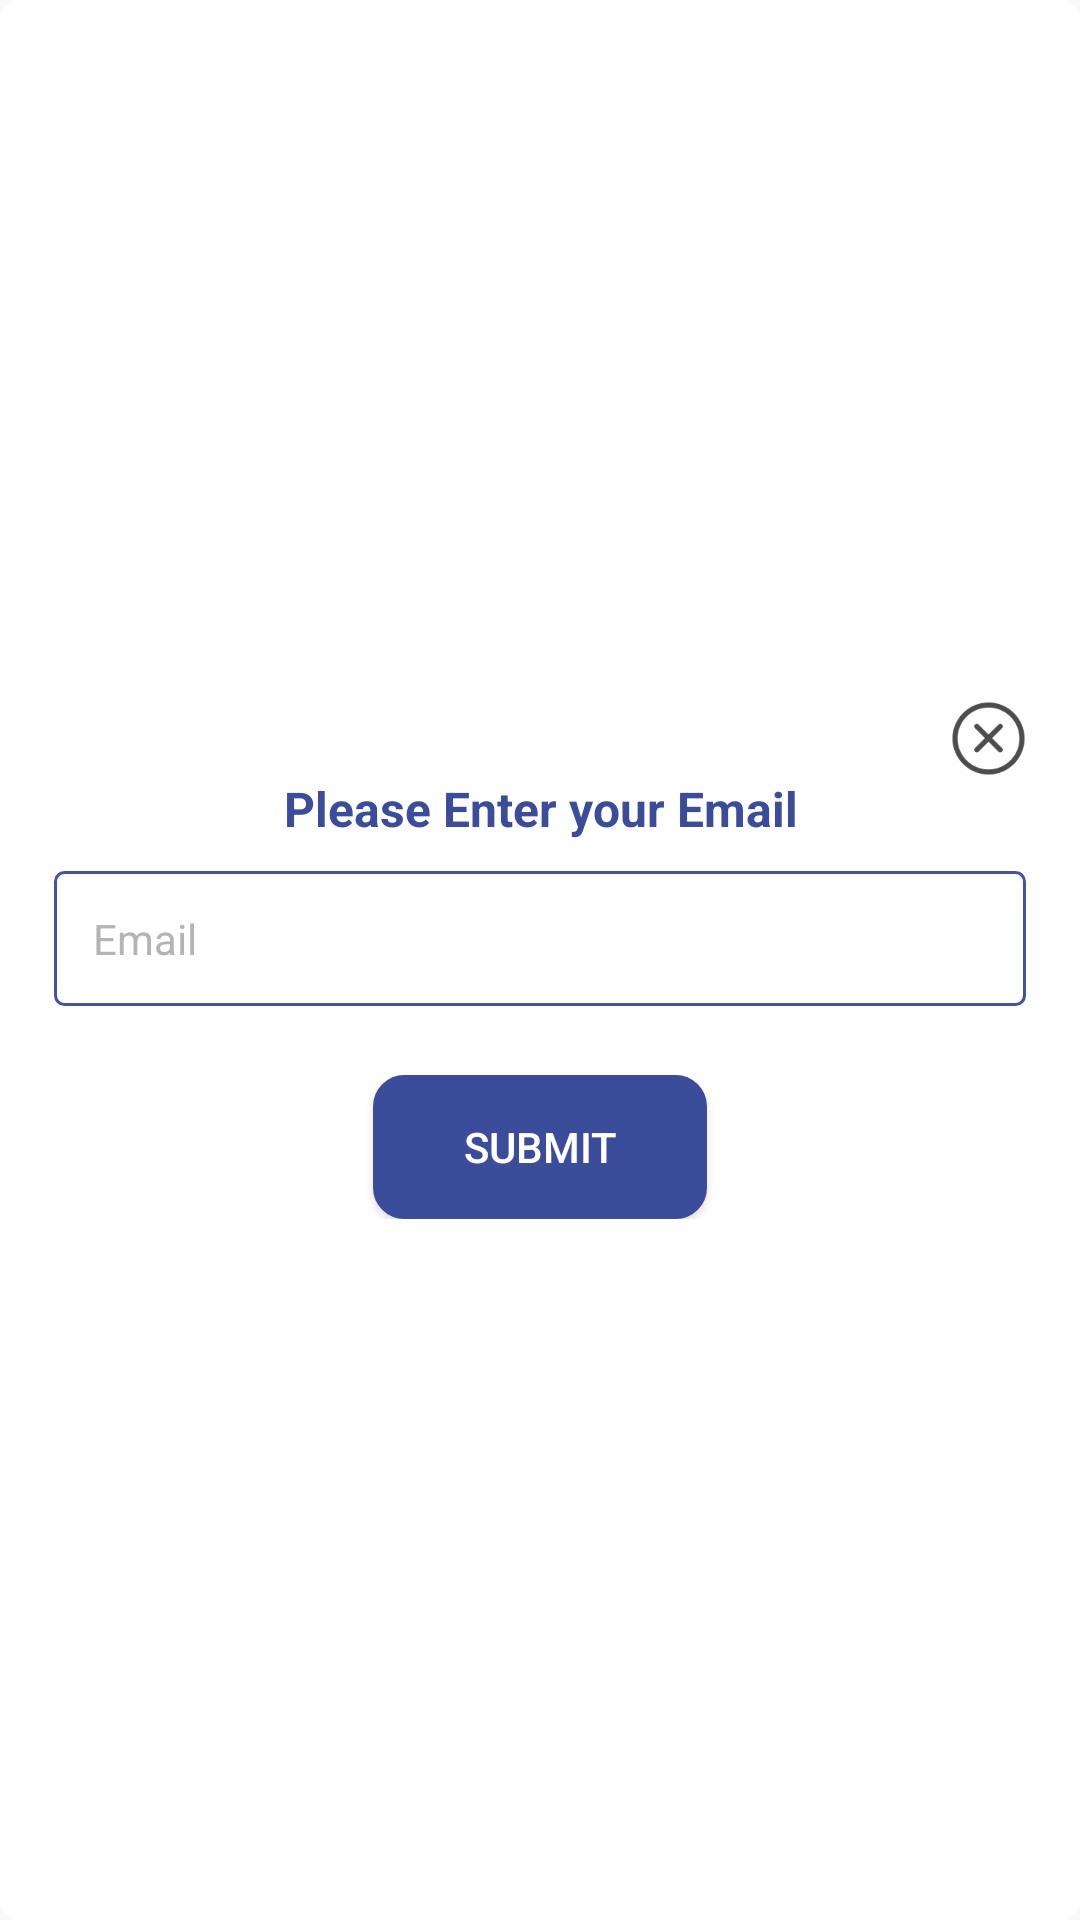

Icon bounding boxes for this 1080px×1920px phone screenshot, format {"left": x1, "top": y1, "right": x2, "bottom": y2}:
closebuttonicon: {"left": 952, "top": 702, "right": 1025, "bottom": 775}
